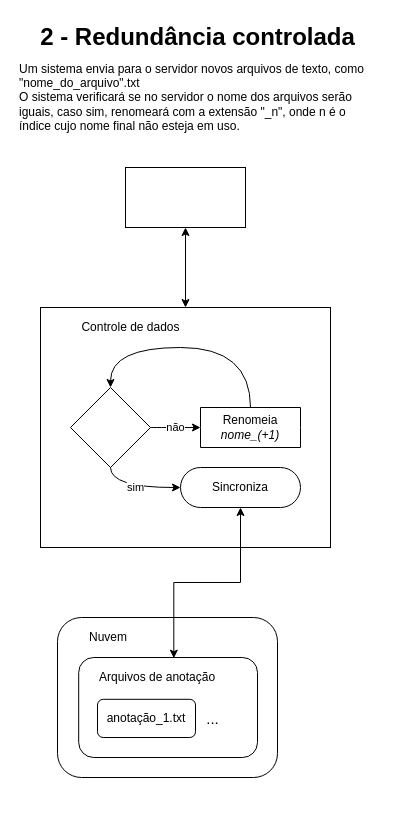
Image size: 394x814. Some labels were removed from this diagram. Each missing label, with the centre of its shape:
"anotação.txt" goes at pixel 185 197.
"Nome é igual?" goes at pixel 110 427.
